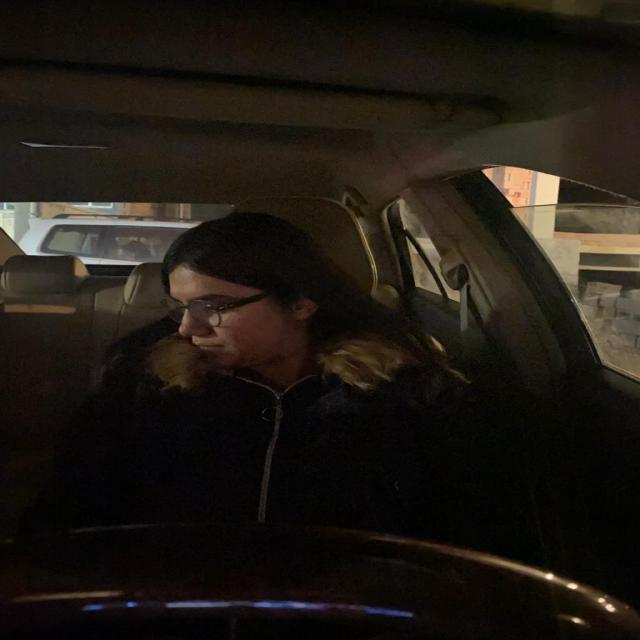person: (156, 202, 352, 380)
